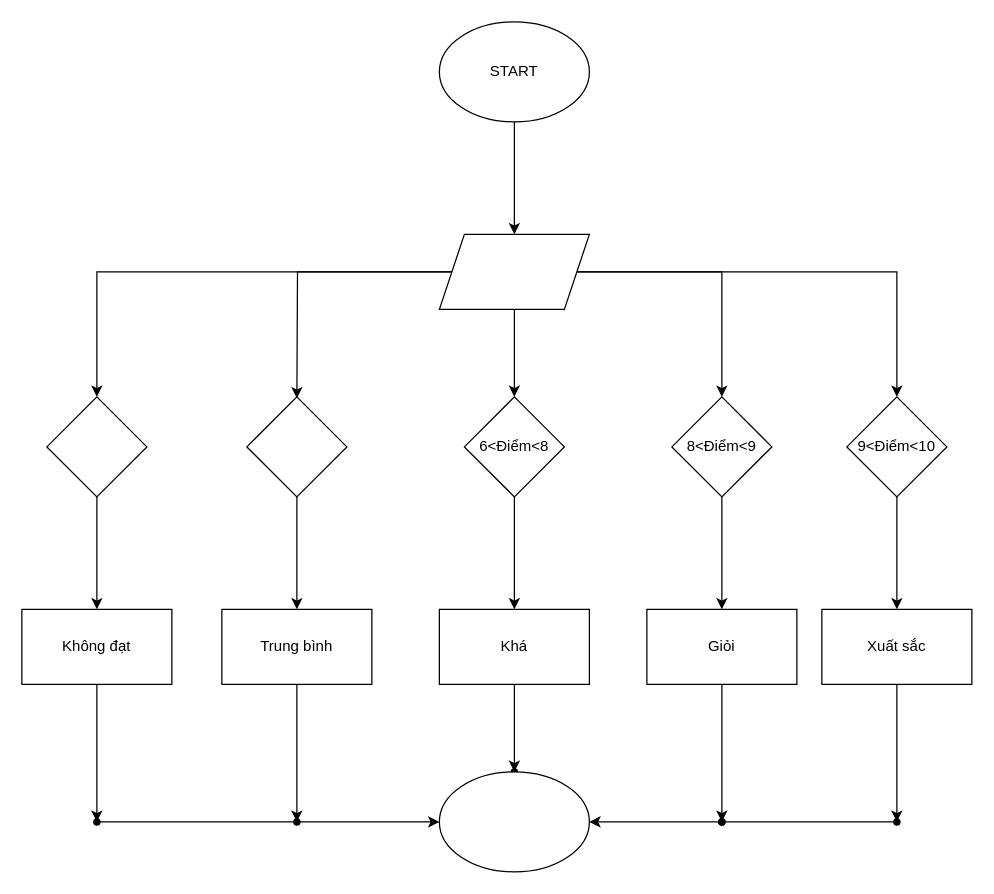
The diagram is 994 pixels wide and 894 high, and some of its shapes have lost their labels. The box of each missing label's shape, as (x1, y1, x2, y2) in pixels:
4<Điểm<6: (246, 396, 347, 497)
END: (438, 771, 589, 872)
Nhập điểm: (438, 233, 589, 309)
Điểm < 4?: (46, 396, 147, 497)
